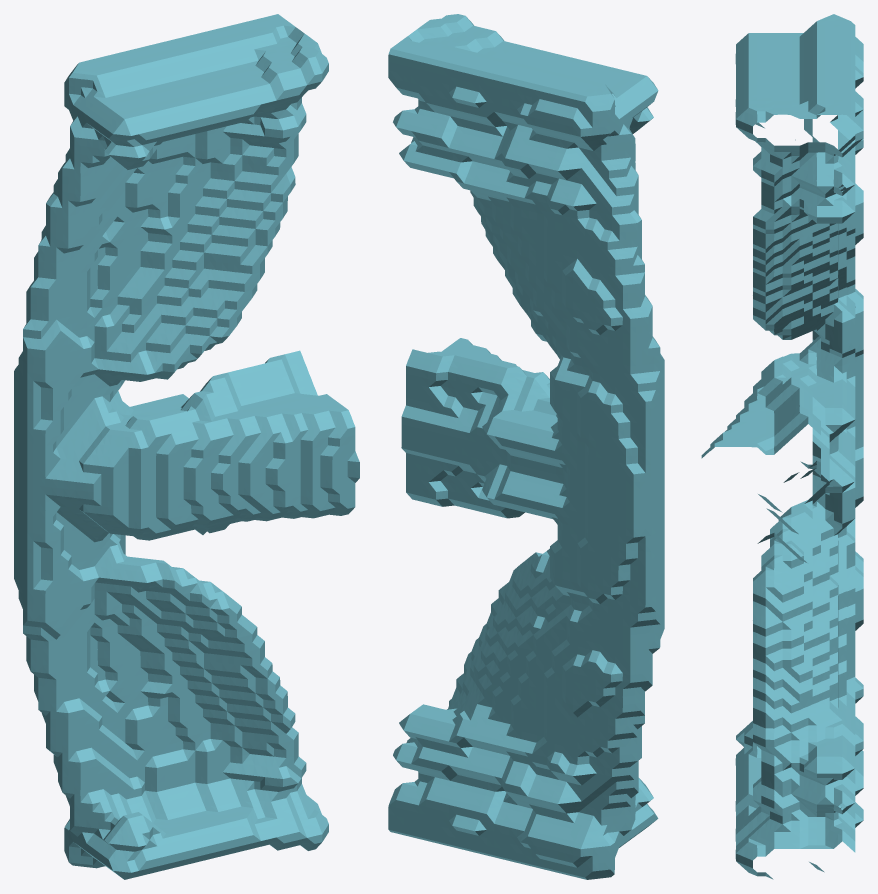
Rendered from W11_GLBDERIVED_FRONT_WING_CFD_VIEW.glb.
The picture shows the model from 3 angles, left to right: view 1: azimuth 30°, elevation 25°; view 2: azimuth 150°, elevation 25°; view 3: azimuth 270°, elevation 25°; orthographic projection. The views are drawn at different scales.
Parts seen in each view (by area): view 1: W11_2020_GLBDERIVED_CFD_SURFACE.stl; view 2: W11_2020_GLBDERIVED_CFD_SURFACE.stl; view 3: W11_2020_GLBDERIVED_CFD_SURFACE.stl.
Boxes of the visible parts, x1=… form: W11_2020_GLBDERIVED_CFD_SURFACE.stl: x1=14, y1=14, x2=359, y2=879; W11_2020_GLBDERIVED_CFD_SURFACE.stl: x1=388, y1=14, x2=664, y2=879; W11_2020_GLBDERIVED_CFD_SURFACE.stl: x1=701, y1=14, x2=863, y2=879.
Bounding box in the file's own units: 0.6904 × 1.98 × 0.4001.
